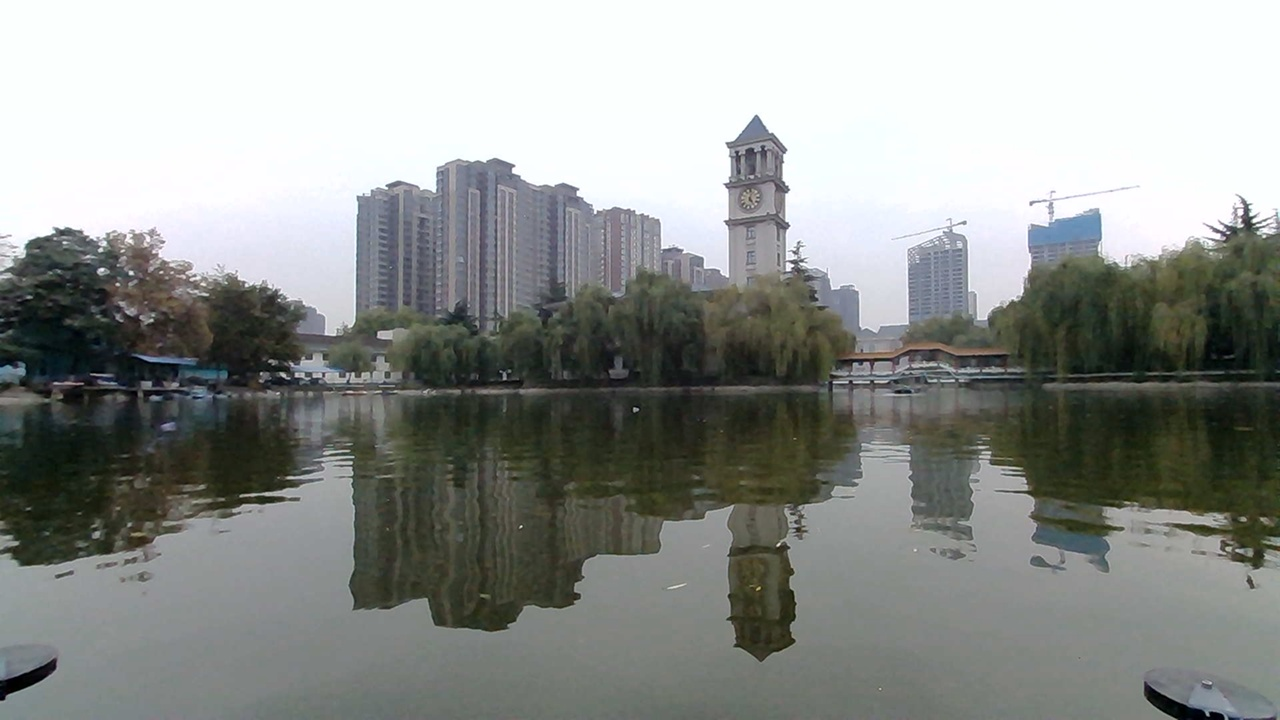bottle: (154, 414, 202, 448), (620, 391, 652, 418)
